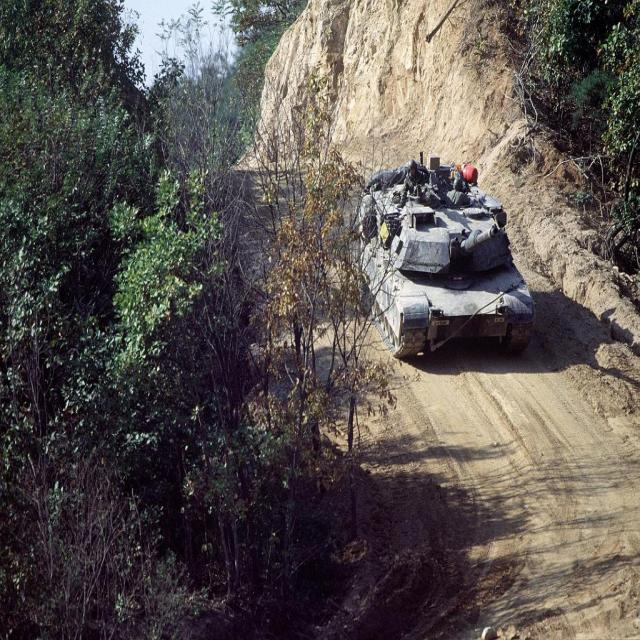tank: (336, 146, 534, 360)
